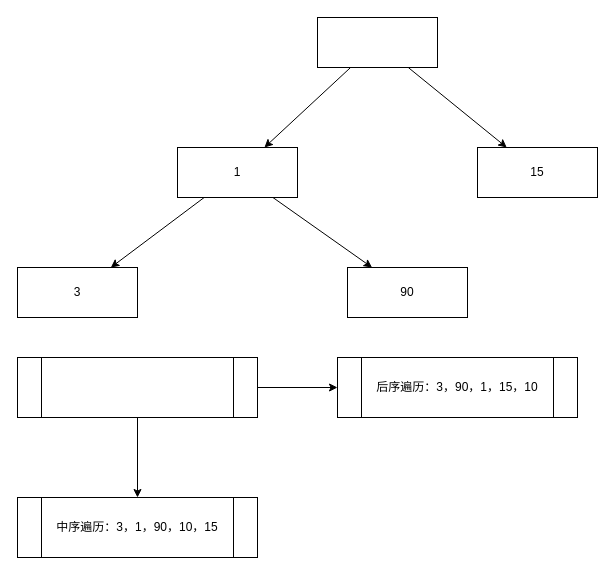
Image size: 615x575. Some labels were removed from this diagram. The centre of each missing label's shape, as x and y in pixels:
root:10: point (377, 42)
前序遍历：10，1，3，90，15: point (137, 387)
